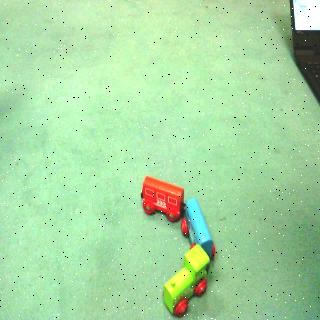train: (138, 171, 220, 320)
